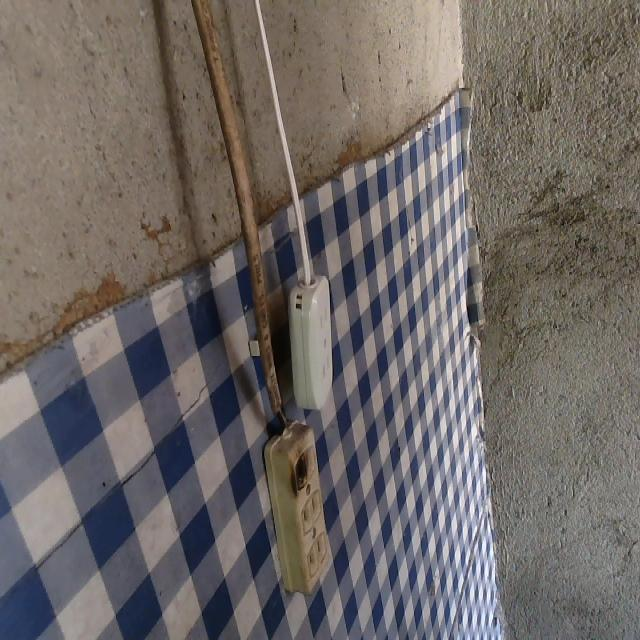-: (278, 448, 310, 496)
